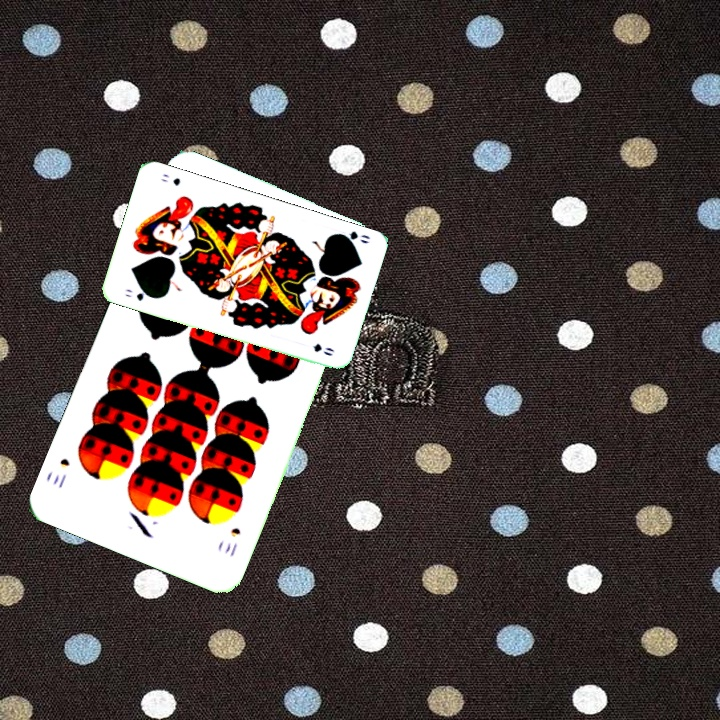GO: (332, 227, 373, 247), (121, 285, 157, 303)
S10: (220, 523, 244, 559)
